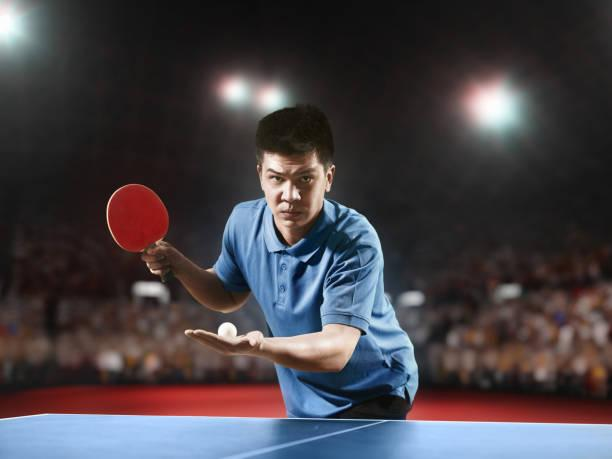ball_pingpong: (213, 319, 239, 342)
